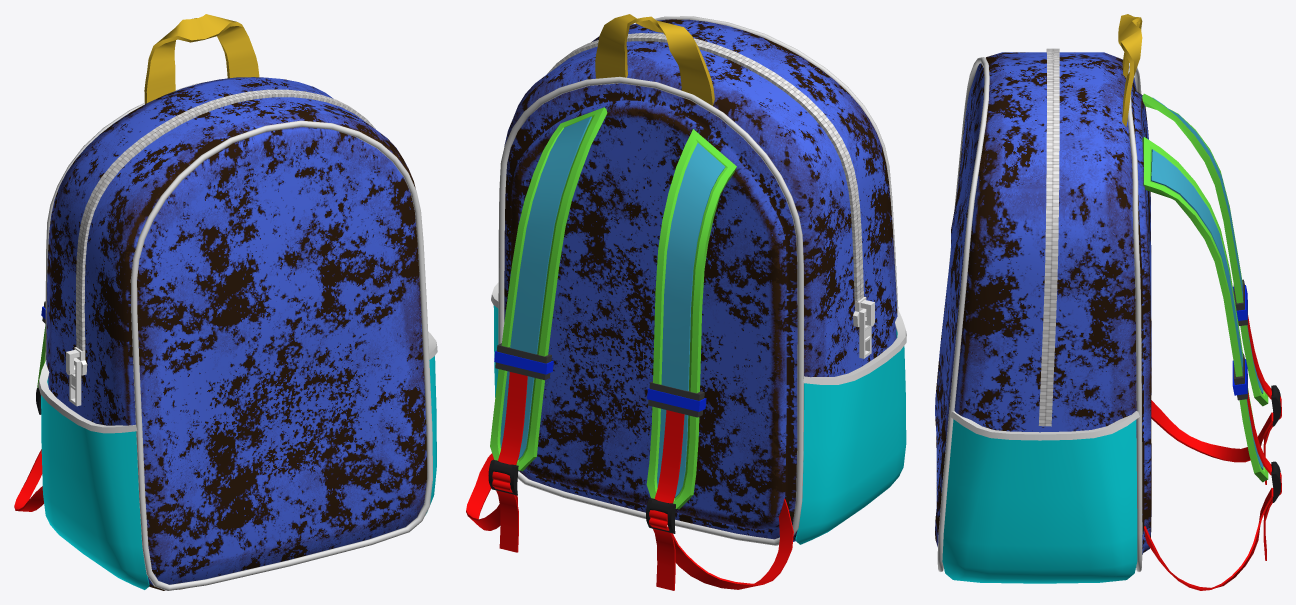
The model's file is Ranac 2.FBX.
The picture shows the model from 3 angles, left to right: view 1: azimuth 30°, elevation 25°; view 2: azimuth 150°, elevation 25°; view 3: azimuth 270°, elevation 25°; orthographic projection. The views are drawn at different scales.
Parts seen in each view (by area): view 1: Box043, Object037, Shape041, Shape042; view 2: Box043, Object037, Shape041, Shape042; view 3: Box043, Object037, Shape041, Shape042.
Part boxes in pixels (<box>): Box043: <box>46,77,426,590</box>; Object037: <box>14,14,436,589</box>; Shape041: <box>38,82,437,590</box>; Shape042: <box>66,89,375,406</box>; Box043: <box>504,19,897,541</box>; Object037: <box>466,14,906,590</box>; Shape041: <box>491,16,906,545</box>; Shape042: <box>547,33,874,358</box>; Box043: <box>935,52,1151,567</box>; Object037: <box>942,14,1281,590</box>; Shape041: <box>937,57,1142,571</box>; Shape042: <box>1038,48,1059,426</box>.
Size of the model in its own units: 105 by 137 by 85.4.
